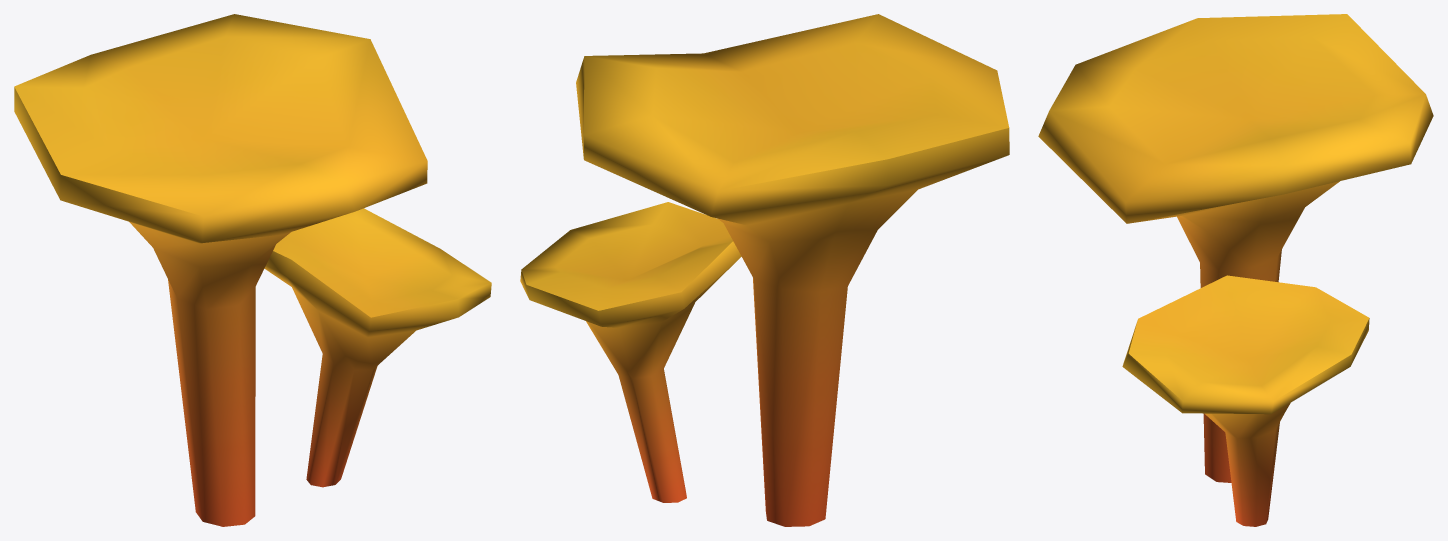
Rendered from mushroom_cibarius_2.fbx.
The picture shows the model from 3 angles, left to right: view 1: azimuth 30°, elevation 25°; view 2: azimuth 150°, elevation 25°; view 3: azimuth 270°, elevation 25°; orthographic projection. The views are drawn at different scales.
Parts seen in each view (by area): view 1: mushroom_cibarius_2.001; view 2: mushroom_cibarius_2.001; view 3: mushroom_cibarius_2.001.
Boxes of the visible parts, <box> form: mushroom_cibarius_2.001: <box>14,14,491,526</box>; mushroom_cibarius_2.001: <box>520,14,1009,526</box>; mushroom_cibarius_2.001: <box>1038,14,1433,526</box>.
Size of the model in its own units: 0.3176 by 0.3008 by 0.276.
